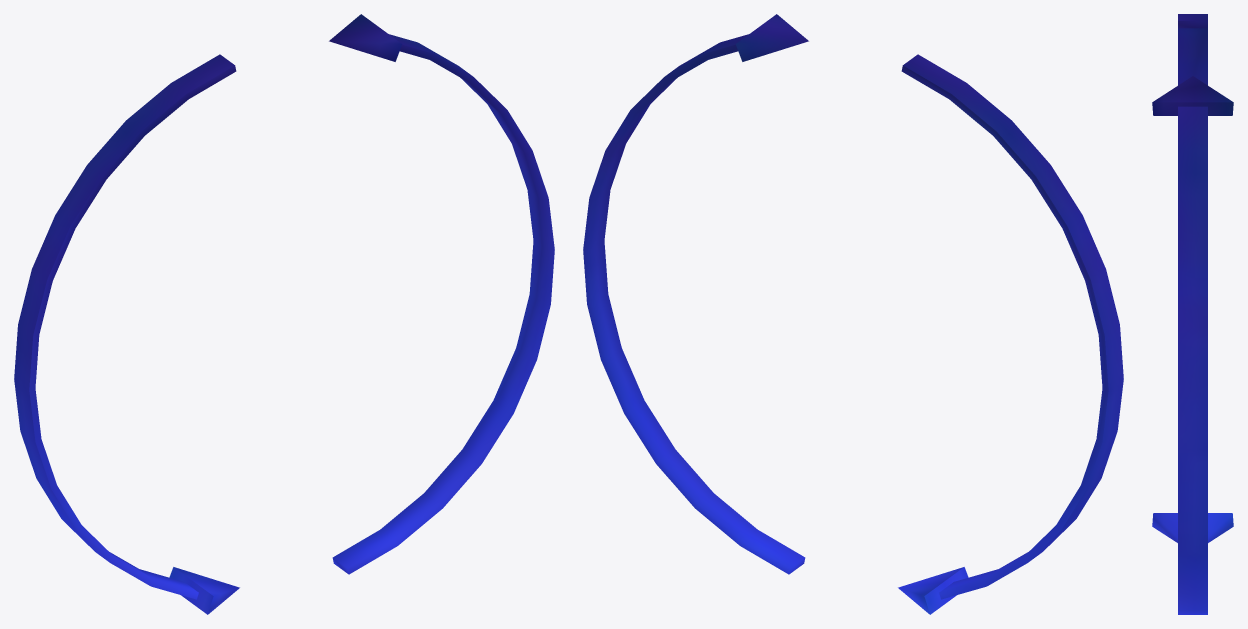
The model's file is d5fd0cf8-960a-48aa-89bf-bc54272fde18.glb.
3 views of the same model, side by side, from view 1: azimuth 30°, elevation 25°; view 2: azimuth 150°, elevation 25°; view 3: azimuth 270°, elevation 25° (orthographic).
Parts seen in each view (by area): view 1: GizmoRotateX; view 2: GizmoRotateX; view 3: GizmoRotateX.
Part boxes in pixels (box(x1,y1,x2,y2)): GizmoRotateX: box(14, 14, 554, 614); GizmoRotateX: box(583, 14, 1123, 614); GizmoRotateX: box(1152, 14, 1233, 614).
Size of the model in its own units: 2 by 1.95 by 0.2712.
Materials: 1 (1 with a texture image).
